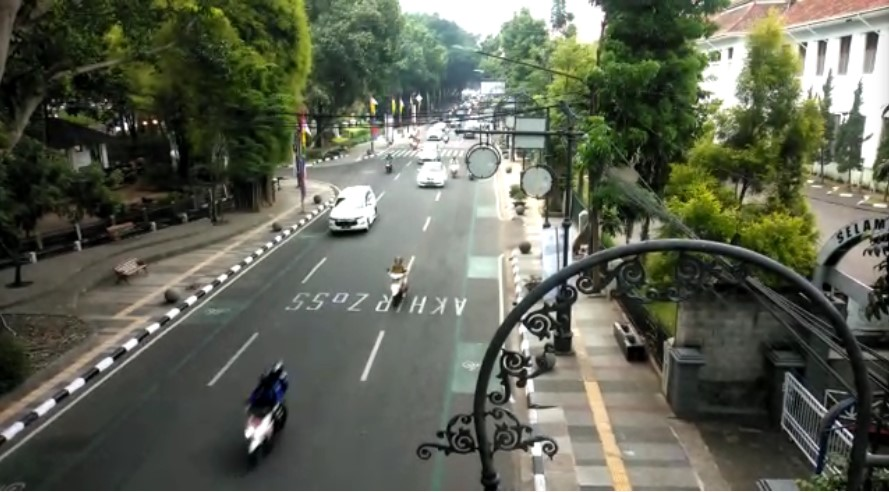mobil: (332, 185, 378, 234)
motor: (229, 361, 294, 469), (384, 256, 414, 303)
